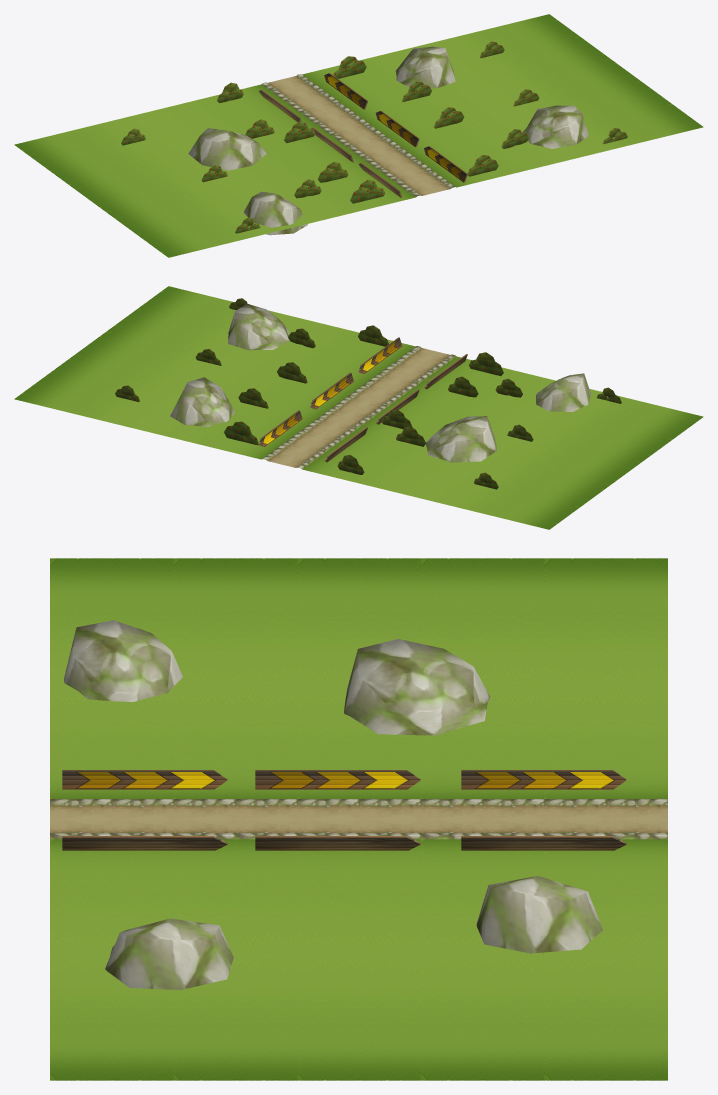
File: ForestRoad02_Short.FBX
3 renders of one model, top to bottom at view 1: azimuth 30°, elevation 25°; view 2: azimuth 150°, elevation 25°; view 3: azimuth 270°, elevation 25°, orthographic. The views are drawn at different scales.
Parts seen in each view (by area): view 1: Road, Stone (×4), Bush (×6), Fence (×3); view 2: Road, Stone (×4), Bush (×6), Fence (×3); view 3: Road, Stone (×4), Fence (×6).
Part boxes in pixels (x1=…): Road: x1=14, y1=14, x2=703, y2=257; Stone (×4): x1=188, y1=46, x2=588, y2=235; Bush (×6): x1=284, y1=56, x2=498, y2=203; Fence (×3): x1=324, y1=73, x2=467, y2=182; Road: x1=14, y1=286, x2=703, y2=529; Stone (×4): x1=170, y1=304, x2=590, y2=462; Bush (×6): x1=224, y1=325, x2=503, y2=445; Fence (×3): x1=259, y1=337, x2=402, y2=446; Road: x1=50, y1=558, x2=667, y2=1080; Stone (×4): x1=64, y1=620, x2=602, y2=990; Fence (×6): x1=62, y1=770, x2=626, y2=850.
Bounding box in the file's own units: 10000 × 616 × 5000.
